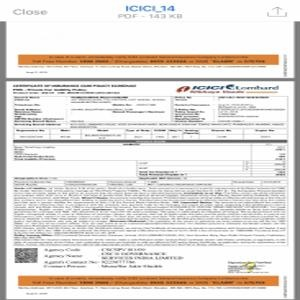image: (172, 81, 281, 95)
table: (13, 138, 287, 186), (14, 127, 289, 141)
text: (13, 187, 287, 247), (13, 96, 289, 128), (42, 247, 184, 271), (10, 82, 139, 96)
